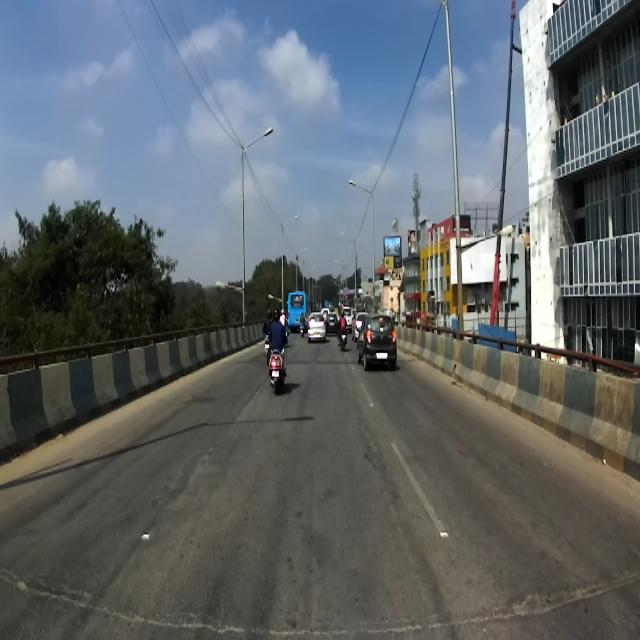barrier ahead at: (0, 319, 264, 459), (400, 328, 640, 475)
car ahead at: (361, 306, 400, 375)
motorcycle ahead at: (254, 342, 301, 396)
